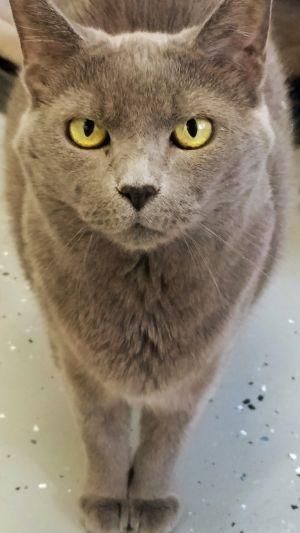rblue: (11, 1, 279, 280)
